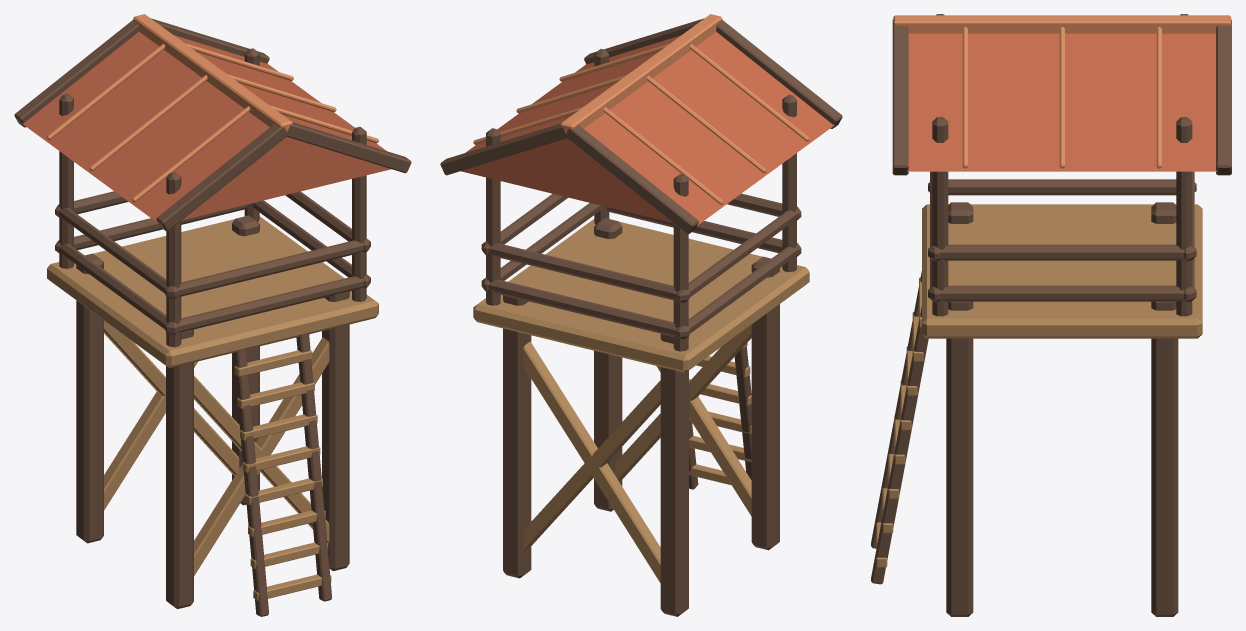
The model's file is watchtower.glb.
3 renders of one model, left to right at view 1: azimuth 30°, elevation 25°; view 2: azimuth 150°, elevation 25°; view 3: azimuth 270°, elevation 25°, orthographic. The views are drawn at different scales.
Visible parts, largest first — view 1: tower-canopy, tower-deck, tower-leg, tower-leg.001, tower-leg.002, tower-brace, roof-ridge.001, ladder-rail, ladder-rail.001, roof-edge.004, guard-rail, guard-rail.004 (+29 smaller); view 2: tower-canopy, tower-deck, tower-leg.001, tower-leg, tower-leg.003, tower-brace.002, tower-brace.003, tower-leg.002, roof-ridge.001, roof-edge.006, guard-rail.001, guard-rail.005 (+21 smaller); view 3: tower-canopy, tower-deck, tower-leg.003, tower-leg.002, roof-ridge.001, guard-rail.003, guard-rail.007, guard-rail.002, ladder-rail.001, roof-edge.005, roof-support.003, roof-support.002 (+7 smaller).
Part boxes in pixels (x1,y1,x2,y2): tower-canopy: (22, 31, 391, 222); tower-deck: (47, 216, 378, 368); tower-leg: (166, 329, 193, 608); tower-leg.001: (76, 253, 103, 543); tower-leg.002: (322, 291, 349, 570); tower-brace: (194, 337, 329, 575); roof-ridge.001: (133, 14, 292, 131); ladder-rail: (233, 349, 268, 616); ladder-rail.001: (296, 333, 331, 601); roof-edge.004: (156, 124, 287, 231); guard-rail: (165, 274, 370, 334); guard-rail.004: (165, 238, 370, 298); tower-canopy: (461, 32, 834, 225); tower-deck: (473, 219, 809, 372); tower-leg.001: (660, 333, 688, 616); tower-leg: (751, 256, 779, 550); tower-leg.003: (503, 295, 531, 578); tower-brace.002: (523, 341, 660, 582); tower-brace.003: (523, 380, 660, 551); tower-leg.002: (594, 218, 622, 511); roof-ridge.001: (560, 14, 722, 132); roof-edge.006: (565, 125, 698, 233); guard-rail.001: (481, 277, 689, 339); guard-rail.005: (481, 241, 689, 302); tower-canopy: (907, 33, 1217, 171); tower-deck: (922, 204, 1202, 338); tower-leg.003: (1151, 301, 1178, 616); tower-leg.002: (946, 301, 973, 616); roof-ridge.001: (893, 15, 1231, 33); guard-rail.003: (928, 285, 1196, 301); guard-rail.007: (928, 244, 1196, 260); guard-rail.002: (928, 179, 1196, 195); ladder-rail.001: (871, 306, 928, 584); roof-edge.005: (892, 23, 908, 175); roof-support.003: (1176, 117, 1192, 316); roof-support.002: (932, 117, 948, 316).
Size of the model in its own units: 2.7 by 4.99 by 2.96.
